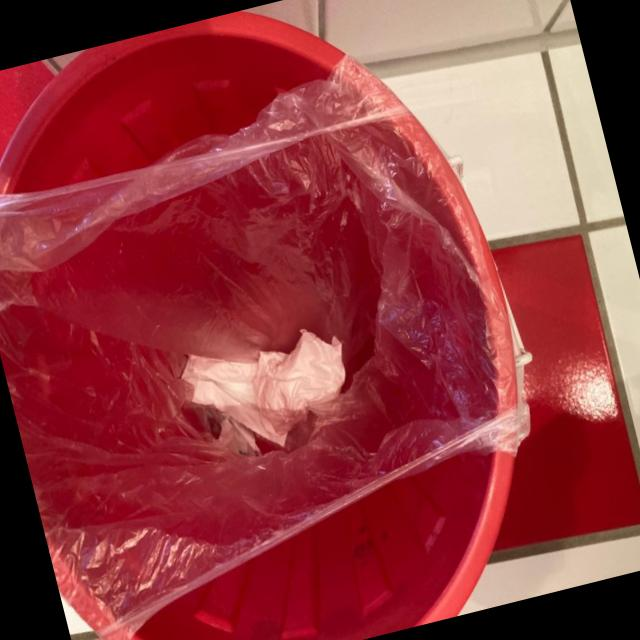organic waste: (173, 318, 362, 467)
